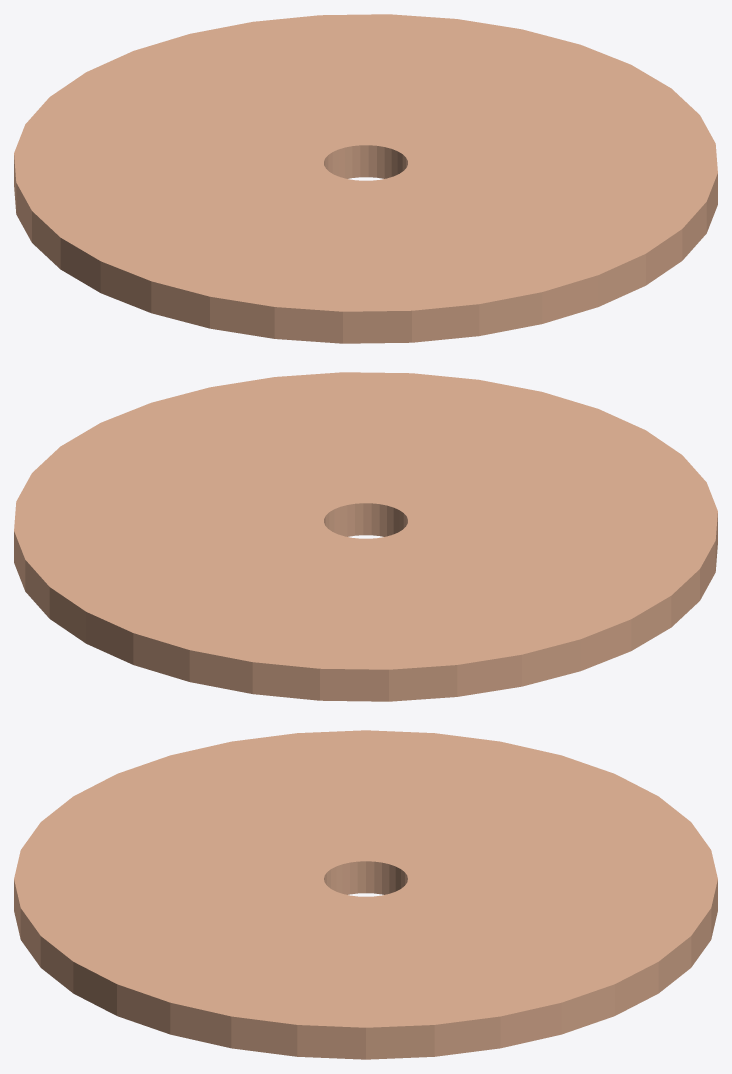
The model's file is webotsStand4.dae.
The picture shows the model from 3 angles, top to bottom: view 1: azimuth 30°, elevation 25°; view 2: azimuth 150°, elevation 25°; view 3: azimuth 270°, elevation 25°; orthographic projection.
Parts seen in each view (by area): view 1: Cylinder.001; view 2: Cylinder.001; view 3: Cylinder.001.
Boxes of the visible parts, <box> form: Cylinder.001: <box>14,14,717,343</box>; Cylinder.001: <box>14,372,717,701</box>; Cylinder.001: <box>14,730,717,1059</box>.
Size of the model in its own units: 0.05 by 0.05 by 0.0025.
